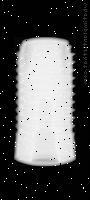Euroteknika: (14, 37, 76, 166)
